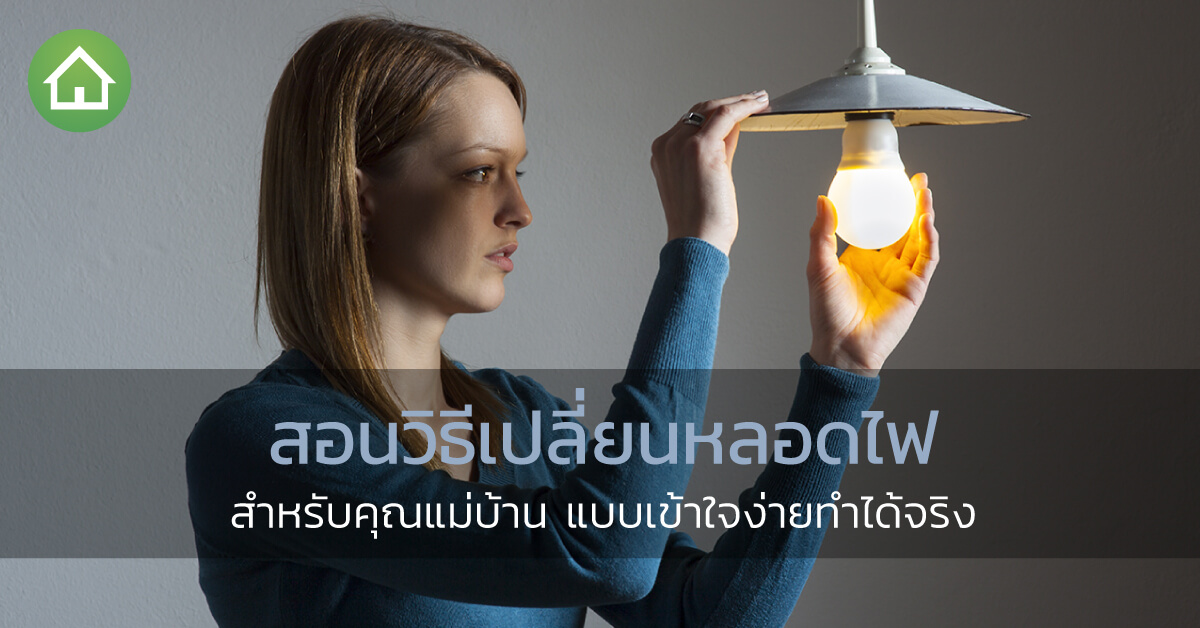Light_bulb: (812, 110, 942, 268)
